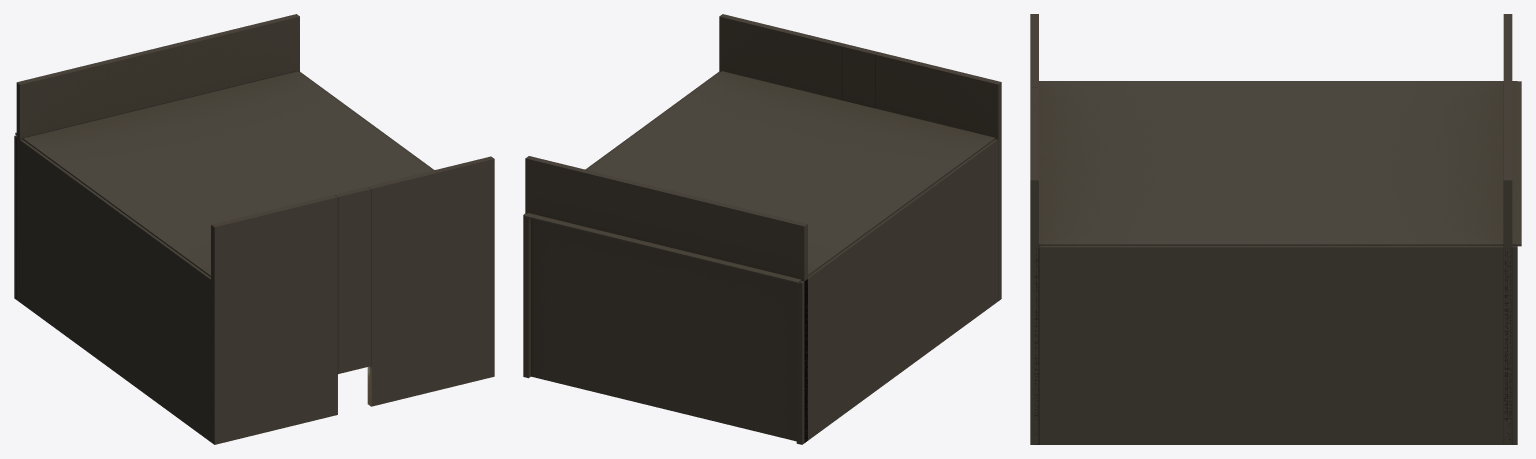
File: church-baked.glb
The picture shows the model from 3 angles, left to right: view 1: azimuth 30°, elevation 25°; view 2: azimuth 150°, elevation 25°; view 3: azimuth 270°, elevation 25°; orthographic projection. The views are drawn at different scales.
Parts seen in each view (by area): view 1: Shell, Ceiling; view 2: Shell, Ceiling; view 3: Shell, Ceiling.
Part boxes in pixels (<box>): Shell: <box>14,14,494,444</box>; Ceiling: <box>15,71,432,276</box>; Shell: <box>523,14,1001,444</box>; Ceiling: <box>524,71,995,283</box>; Shell: <box>1030,14,1517,444</box>; Ceiling: <box>1039,81,1521,246</box>.
Bounding box in the file's own units: 10.1 × 7.5 × 12.61.
Materials: 2 (2 with a texture image).
